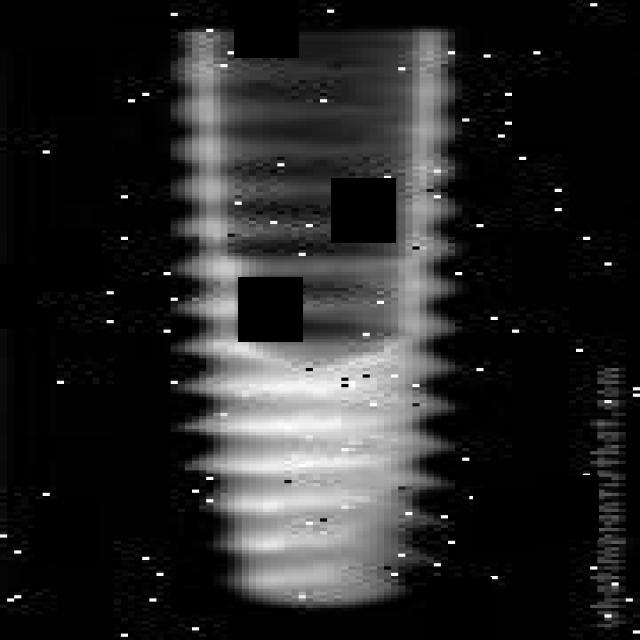OCO Biomedical Implant: (174, 24, 466, 614)
